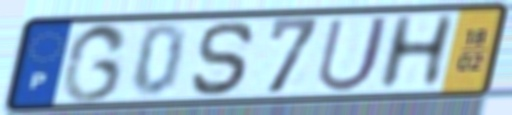0: (131, 21, 190, 100)
7: (266, 15, 321, 98)
G: (58, 20, 131, 105)
H: (373, 12, 461, 93)
S: (188, 19, 260, 98)
U: (313, 13, 394, 95)
